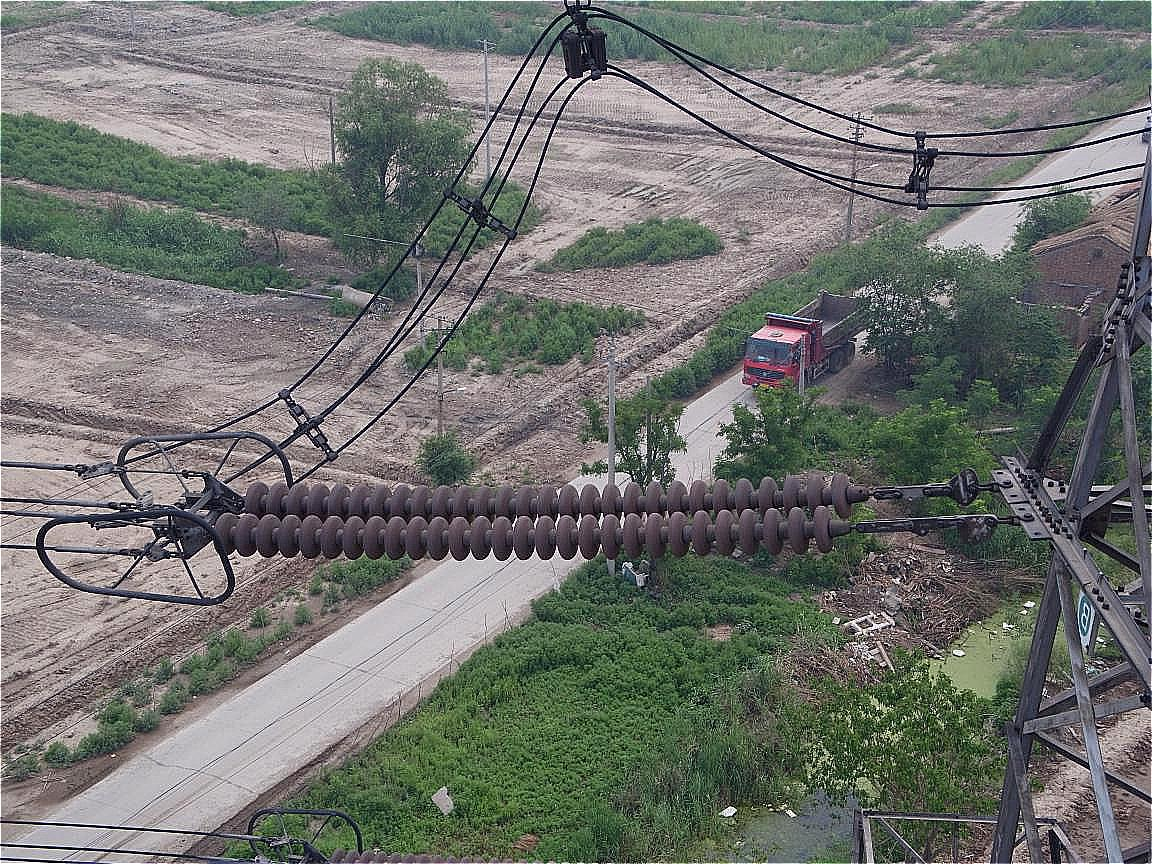insultor1: (176, 469, 857, 587)
